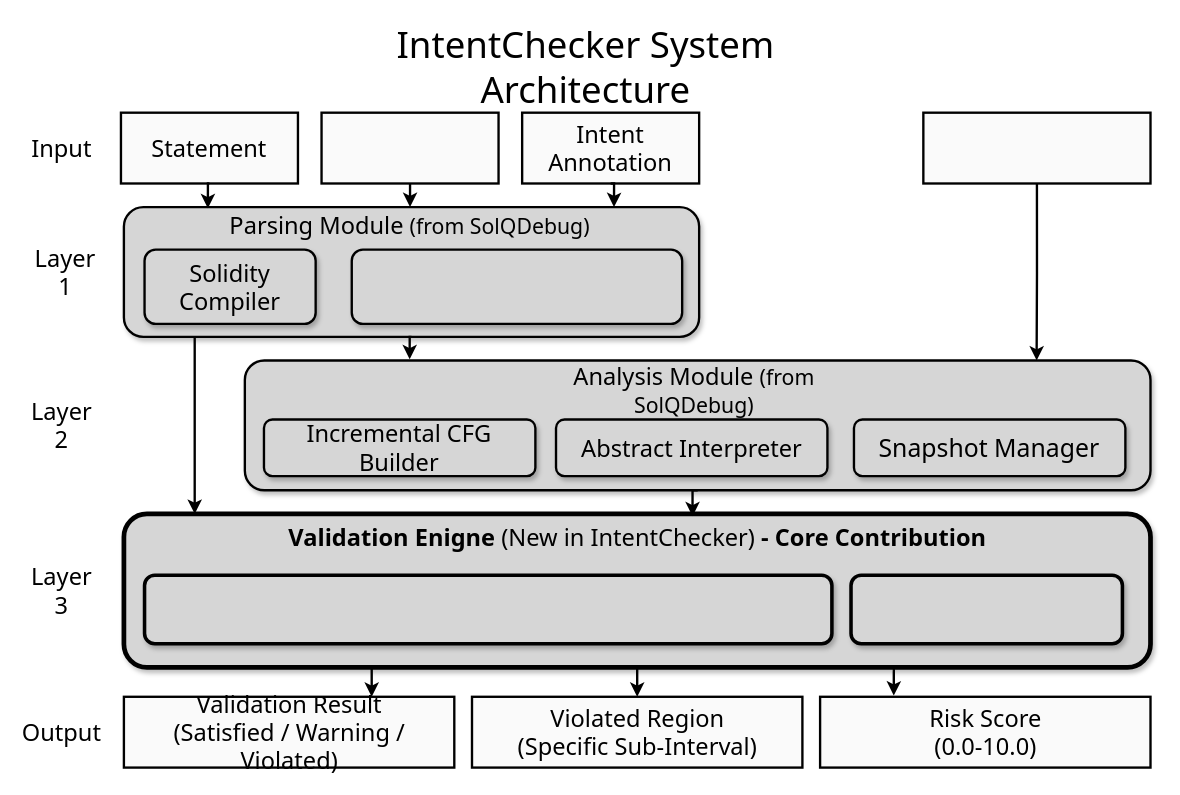
Some shapes in this 1180 by 795 pixel diagram are drawn without their labels. Each missing label, with the centre of its shape:
"ANTLR-based Source/Annotation Parser" goes at (517,288).
"Debug Annotation" goes at (409,147).
"Dependency CFGs (.pkl)" goes at (1036,147).
"Risk score Computation Module" goes at (987,610).
"Validation Module" goes at (488,610).
